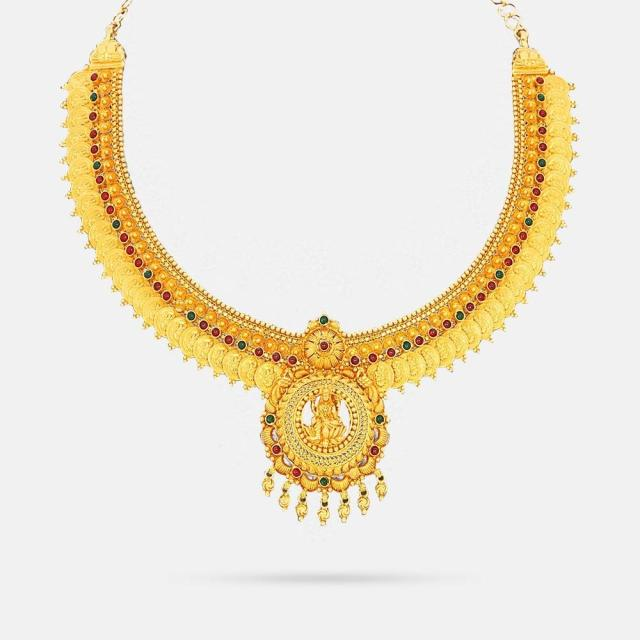missing gem: (349, 468, 359, 478), (175, 301, 184, 311)
